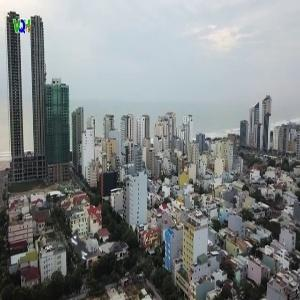drone: (40, 203, 127, 290)
